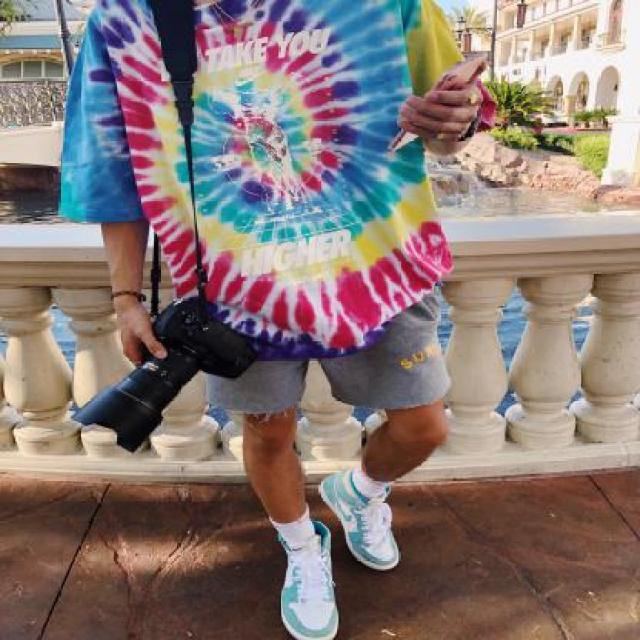shoe: (327, 464, 404, 570), (276, 529, 339, 640)
